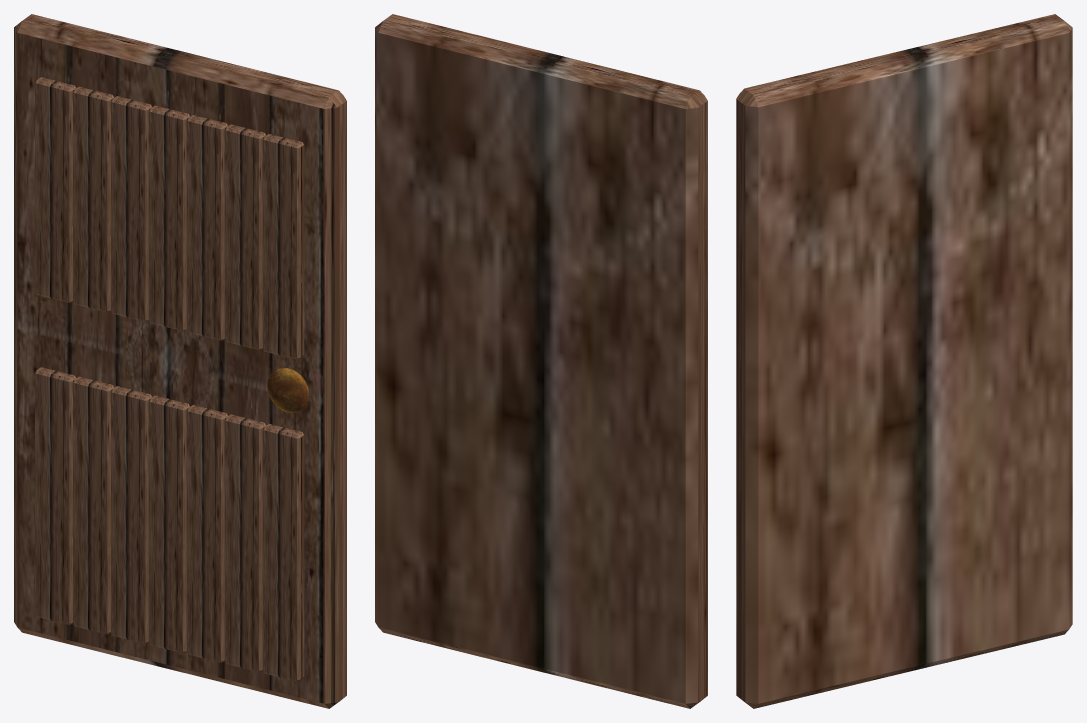
Rendered from DoorExport1.fbx.
3 views of the same model, side by side, from view 1: azimuth 30°, elevation 25°; view 2: azimuth 210°, elevation 25°; view 3: azimuth 270°, elevation 25° (orthographic).
Visible parts, largest first — view 1: pCube53; view 2: pCube53; view 3: pCube53.
Part boxes in pixels (x1=…): pCube53: x1=14, y1=14, x2=346, y2=708; pCube53: x1=375, y1=14, x2=707, y2=708; pCube53: x1=736, y1=14, x2=1072, y2=708.
Size of the model in its own units: 0.5552 by 1.8 by 0.8947.
2 materials, 2 textured.
